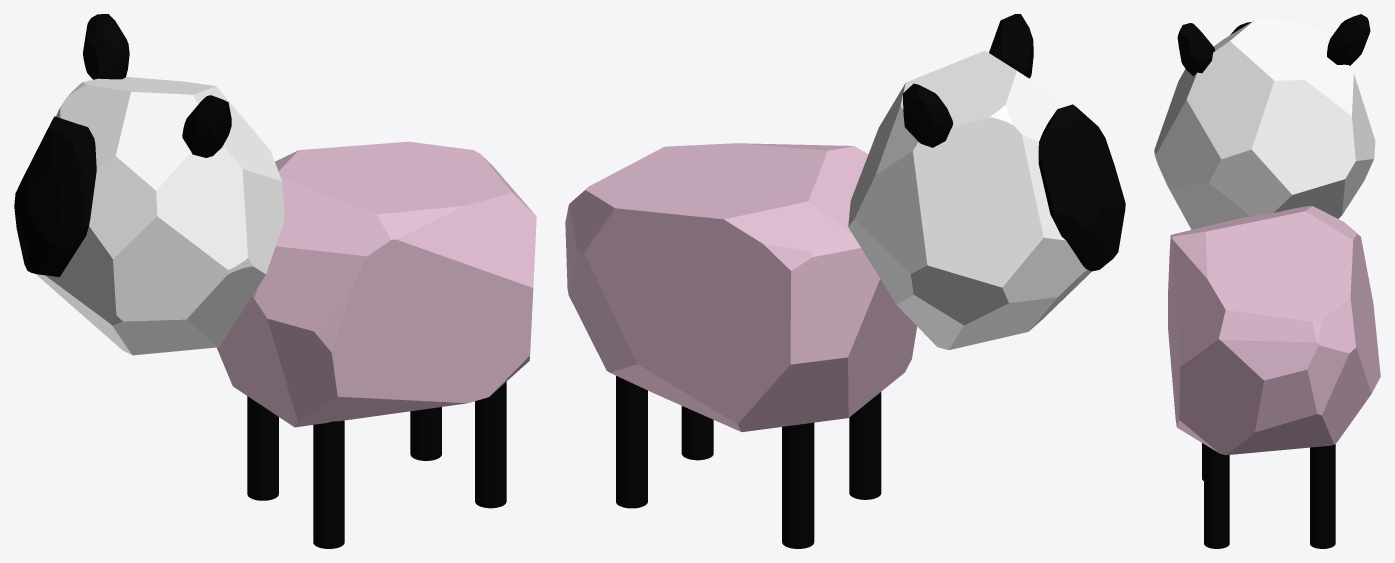
File: shorn_sheep.glb
3 renders of one model, left to right at view 1: azimuth 30°, elevation 25°; view 2: azimuth 150°, elevation 25°; view 3: azimuth 270°, elevation 25°, orthographic. The views are drawn at different scales.
Parts seen in each view (by area): view 1: Body, Head, Head.002, Leg3, Leg4, Leg2, Ear1, Ear1.001, Leg1; view 2: Body, Head, Head.002, Leg2, Leg1, Leg3, Ear1, Ear1.001, Leg4; view 3: Body, Head, Leg1, Leg4, Ear1, Ear1.001.
Part boxes in pixels (x1,y1,x2,y2): Body: (216,141,536,427); Head: (36,77,284,355); Head.002: (14,116,96,276); Leg3: (313,420,344,548); Leg4: (475,382,506,508); Leg2: (247,396,278,500); Ear1: (83,14,129,79); Ear1.001: (182,95,231,157); Leg1: (410,407,441,460); Body: (565,143,916,432); Head: (848,51,1091,350); Head.002: (1038,104,1125,271); Leg2: (782,422,814,548); Leg1: (616,376,647,508); Leg3: (849,392,881,499); Ear1: (903,83,953,147); Ear1.001: (989,14,1033,78); Leg4: (681,406,713,460); Body: (1168,206,1380,455); Head: (1154,20,1375,229); Leg1: (1310,444,1335,548); Leg4: (1204,444,1229,548); Ear1: (1327,14,1370,65); Ear1.001: (1177,23,1215,76).
Size of the model in its own units: 1.86 by 1.74 by 0.8772.
